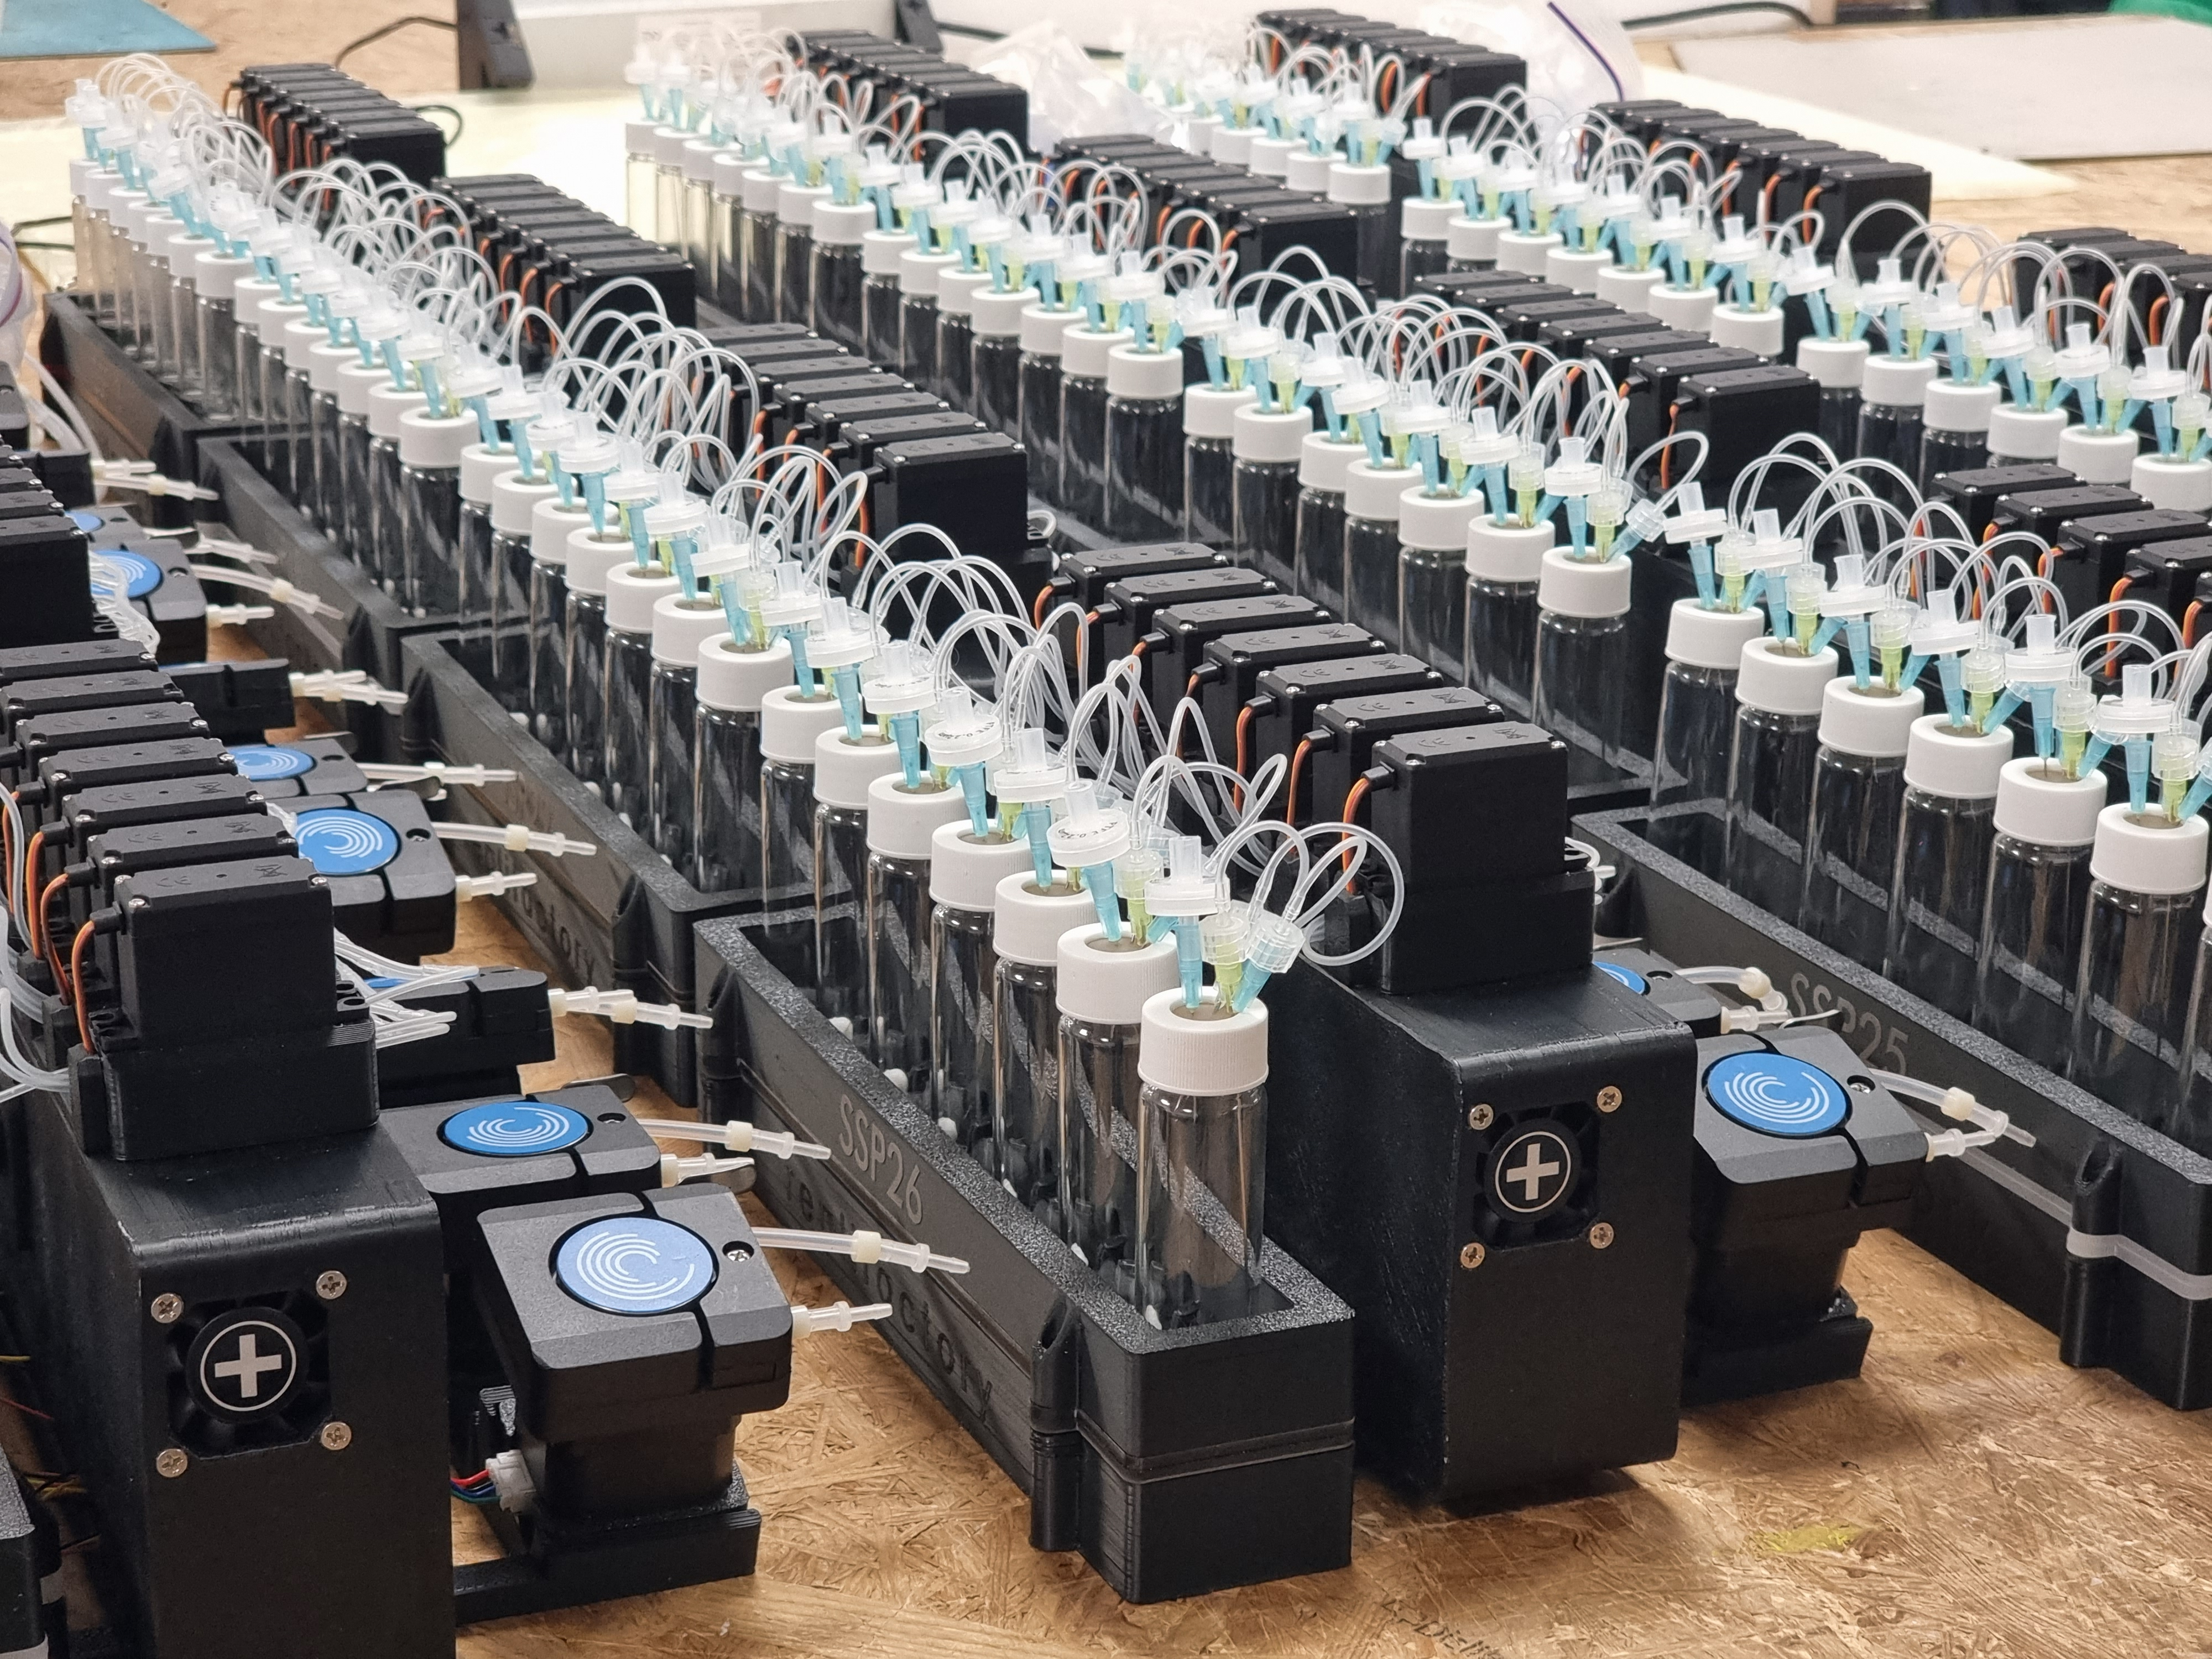vial: (1049, 918, 1184, 1288), (2076, 802, 2212, 1136), (1136, 985, 1268, 1326), (988, 875, 1111, 1229), (806, 720, 932, 1065), (1886, 713, 2017, 1028), (930, 817, 1045, 1171), (1799, 671, 1928, 974), (1979, 758, 2101, 1070), (869, 767, 979, 1107), (752, 683, 860, 1019), (1648, 592, 1770, 887), (1726, 629, 1841, 931), (693, 627, 796, 903), (597, 559, 700, 833), (559, 525, 662, 789), (650, 591, 740, 882), (1527, 544, 1635, 788), (486, 467, 582, 732), (528, 498, 618, 763), (458, 441, 549, 706), (1465, 511, 1557, 720), (366, 376, 449, 601), (1395, 483, 1487, 685), (1287, 425, 1381, 620), (397, 403, 481, 620), (1062, 321, 1143, 533), (1341, 457, 1430, 648), (1226, 396, 1312, 582), (308, 336, 381, 552), (1108, 345, 1184, 545), (254, 295, 331, 491), (284, 317, 355, 521), (1017, 301, 1090, 500), (338, 356, 408, 563), (1858, 352, 1935, 538), (1181, 380, 1259, 561), (1801, 333, 1872, 523), (233, 275, 296, 458), (972, 281, 1043, 437), (199, 253, 260, 422), (812, 199, 880, 350), (1397, 190, 1468, 333), (167, 234, 228, 399), (934, 263, 1000, 413), (146, 213, 202, 389), (1926, 373, 1993, 521), (899, 246, 963, 394), (685, 136, 742, 301), (63, 153, 118, 321), (108, 185, 164, 350), (127, 202, 183, 366), (653, 125, 711, 284), (740, 164, 796, 326), (780, 174, 836, 335), (1334, 162, 1395, 308), (866, 225, 927, 369), (714, 153, 768, 315), (87, 169, 139, 336), (1991, 396, 2062, 493), (2134, 444, 2212, 532), (622, 118, 674, 247), (226, 240, 260, 432), (1442, 216, 1510, 279)
